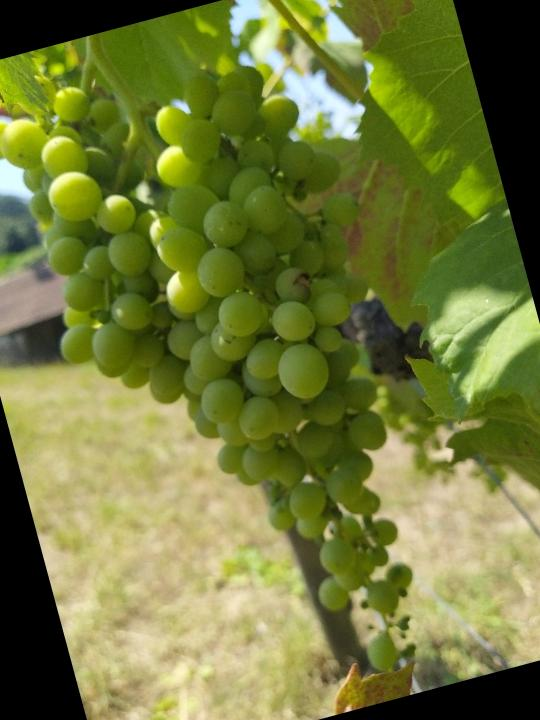grape: (0, 21, 482, 720)
